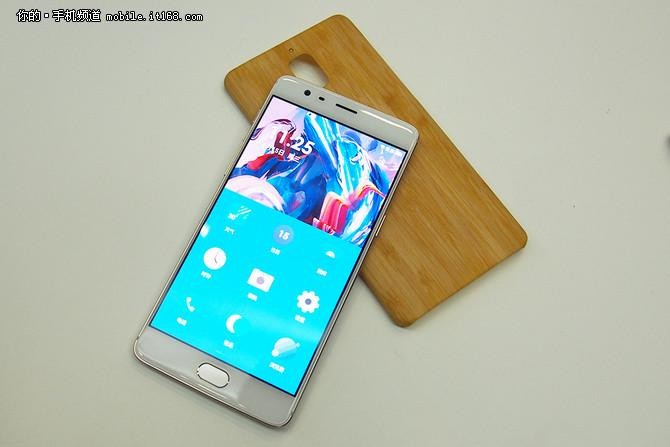phone: (142, 98, 397, 429)
